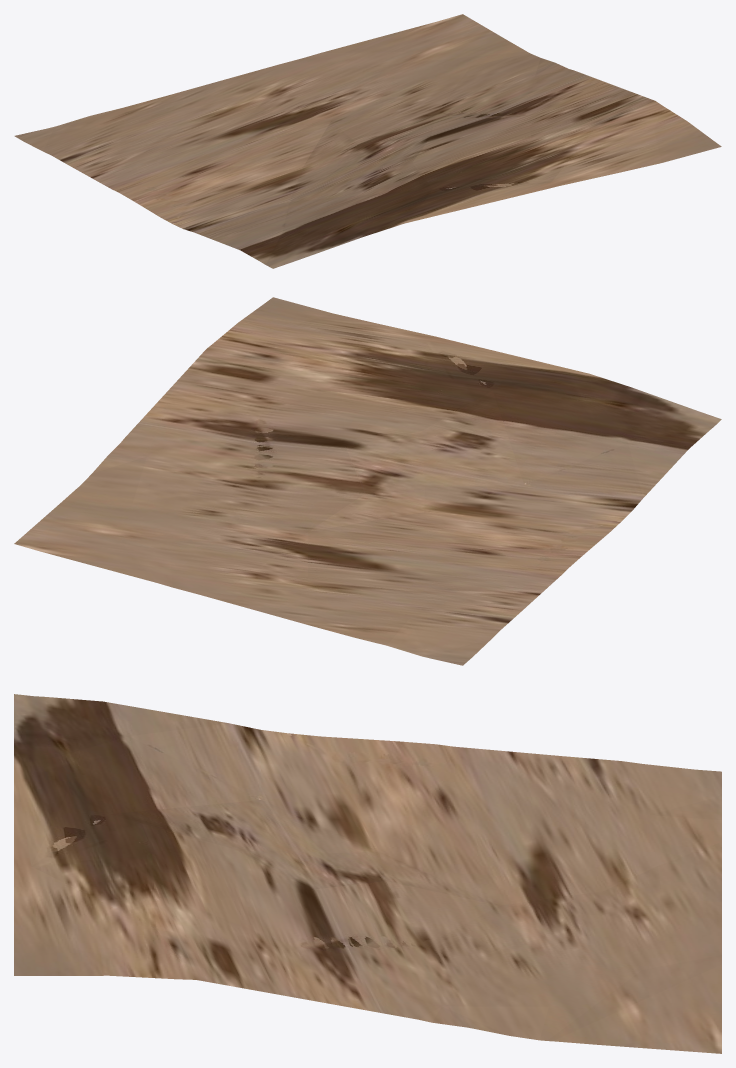
The picture shows the model from 3 angles, top to bottom: view 1: azimuth 30°, elevation 25°; view 2: azimuth 150°, elevation 25°; view 3: azimuth 270°, elevation 25°; orthographic projection. The views are drawn at different scales.
Bounding box in the file's own units: 2.09 × 0.3144 × 2.09.
2 materials, 2 textured.
